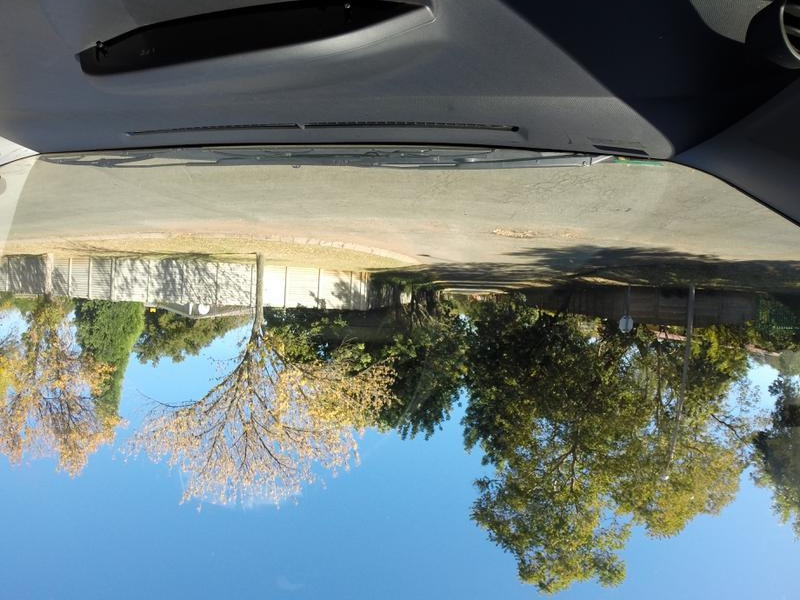pothole: (478, 216, 604, 245)
